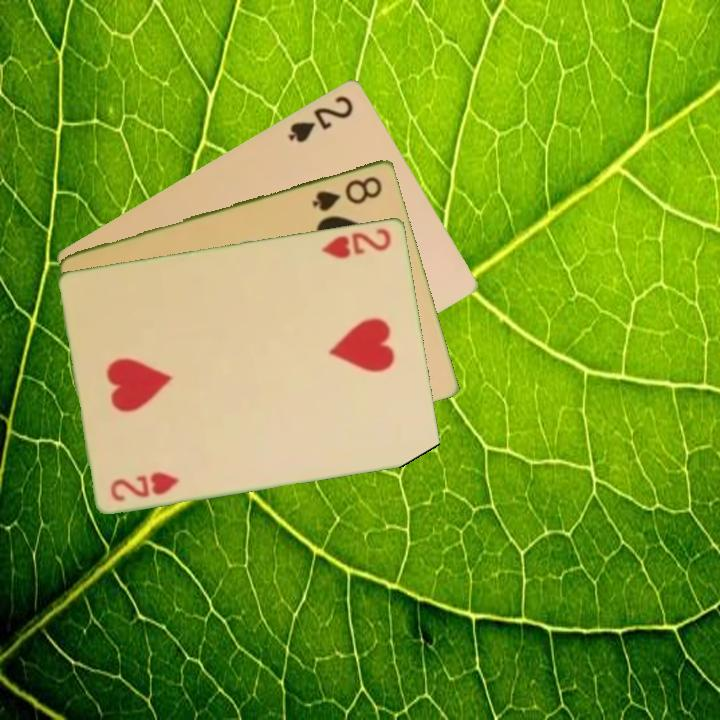2h: (319, 224, 395, 261), (107, 467, 183, 504)
2s: (284, 91, 357, 145)
8s: (309, 172, 386, 214)
